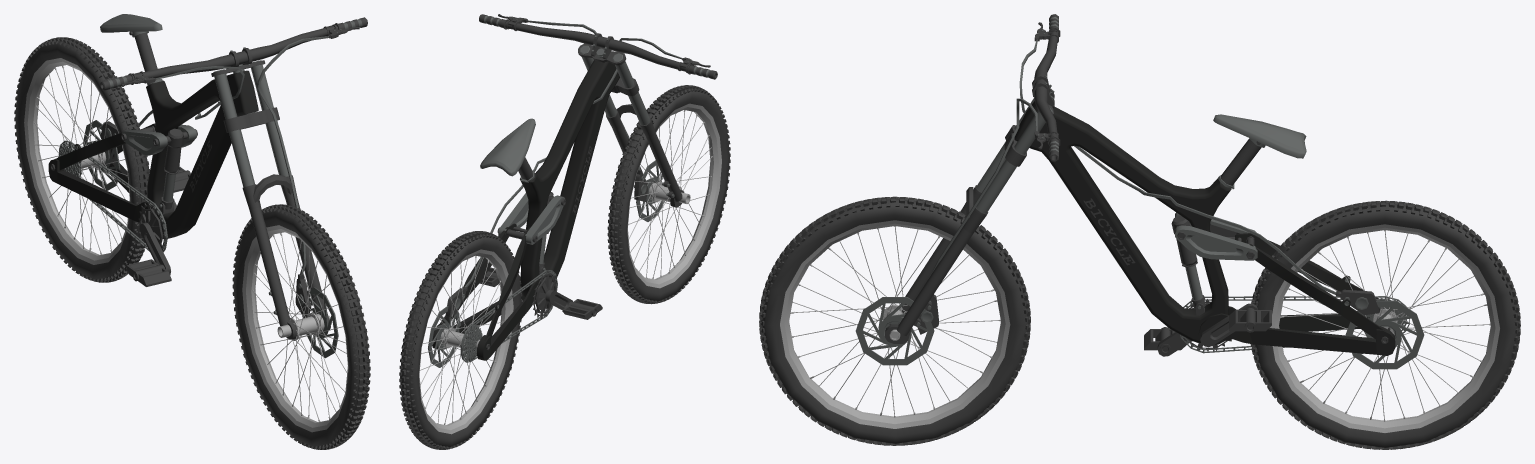
File: BIKE.glb
The picture shows the model from 3 angles, left to right: view 1: azimuth 30°, elevation 25°; view 2: azimuth 150°, elevation 25°; view 3: azimuth 270°, elevation 25°; orthographic projection. The views are drawn at different scales.
Visible parts, largest first — view 1: Steer_Textures_0, Wheel_F_Textures_0, Body_Mat Body_0, Wheel_B_Textures_0, Wheel_F_Mat Wheel_0, Body_Textures_0, Wheel_B_Mat Wheel_0, Pedal_Textures_0, Pedal_R_Textures_0; view 2: Body_Mat Body_0, Wheel_B_Textures_0, Wheel_F_Textures_0, Steer_Textures_0, Body_Textures_0, Wheel_F_Mat Wheel_0, Wheel_B_Mat Wheel_0, Pedal_Textures_0, Pedal_R_Textures_0; view 3: Body_Mat Body_0, Wheel_F_Textures_0, Wheel_B_Textures_0, Steer_Textures_0, Wheel_F_Mat Wheel_0, Wheel_B_Mat Wheel_0, Body_Textures_0, Pedal_Textures_0, Pedal_L_Textures_0.
Boxes of the visible parts, box(x1,y1,x2,y2) form: Steer_Textures_0: box(100, 17, 367, 339); Wheel_F_Textures_0: box(232, 204, 370, 449); Body_Mat Body_0: box(48, 70, 258, 238); Wheel_B_Textures_0: box(14, 37, 149, 282); Wheel_F_Mat Wheel_0: box(242, 225, 348, 432); Body_Textures_0: box(50, 14, 311, 318); Wheel_B_Mat Wheel_0: box(24, 58, 130, 264); Pedal_Textures_0: box(138, 200, 176, 274); Pedal_R_Textures_0: box(126, 259, 171, 286); Body_Mat Body_0: box(432, 60, 619, 360); Wheel_B_Textures_0: box(399, 231, 522, 449); Wheel_F_Textures_0: box(607, 85, 730, 304); Steer_Textures_0: box(465, 14, 717, 287); Body_Textures_0: box(445, 118, 648, 362); Wheel_F_Mat Wheel_0: box(627, 103, 721, 288); Wheel_B_Mat Wheel_0: box(419, 249, 513, 434); Pedal_Textures_0: box(498, 271, 572, 318); Pedal_R_Textures_0: box(562, 299, 602, 319); Body_Mat Body_0: box(1014, 101, 1395, 355); Wheel_F_Textures_0: box(759, 196, 1030, 445); Wheel_B_Textures_0: box(1250, 200, 1520, 449); Steer_Textures_0: box(885, 14, 1336, 343); Wheel_F_Mat Wheel_0: box(780, 220, 1010, 428); Wheel_B_Mat Wheel_0: box(1270, 224, 1499, 432); Body_Textures_0: box(917, 114, 1409, 353); Pedal_Textures_0: box(1157, 299, 1258, 356); Pedal_L_Textures_0: box(1229, 307, 1271, 332).
Bounding box in the file's own units: 0.5852 × 0.7199 × 1.35.
Materials: 3 (1 with a texture image).
